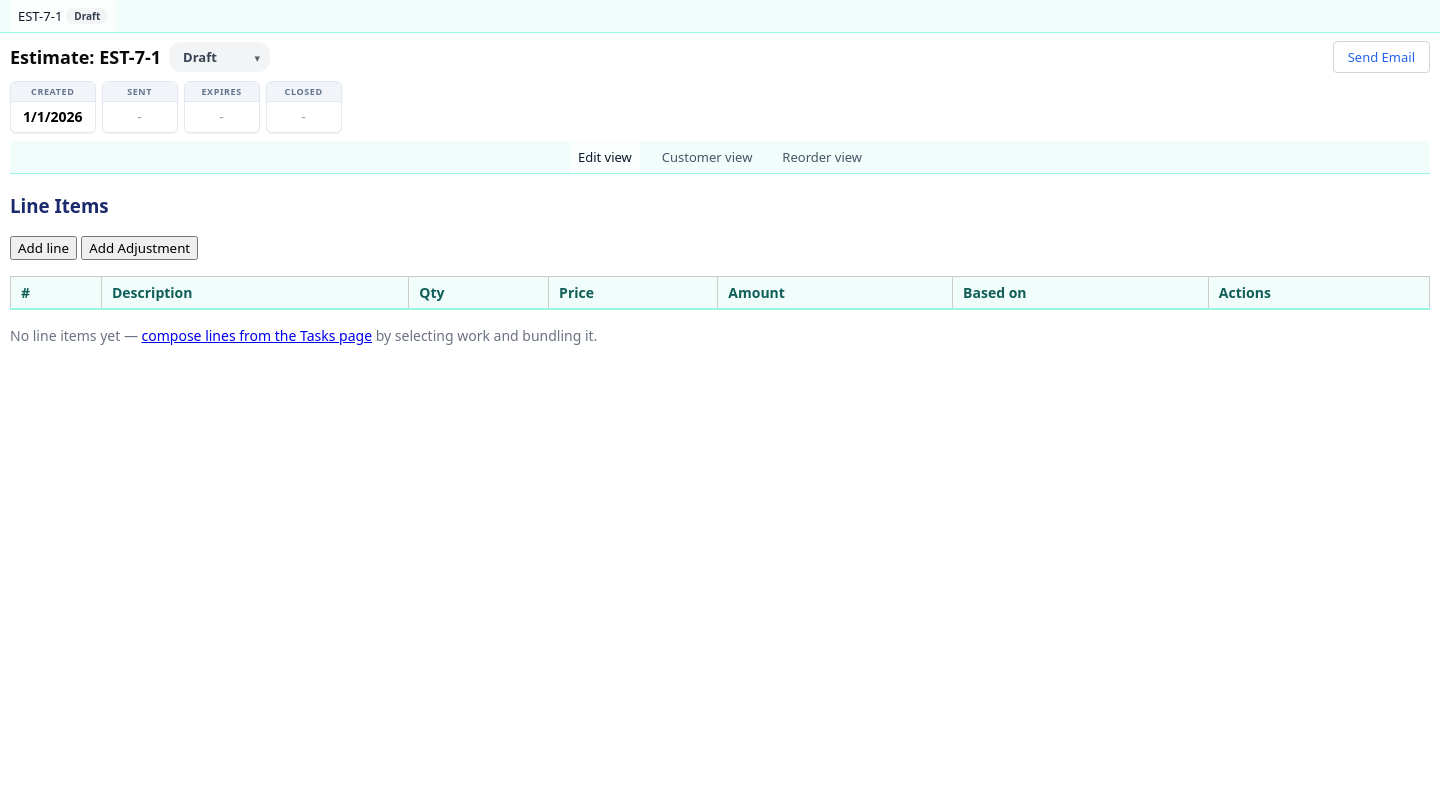
Test case: EstimatePanel Send Email deliverables gate › Send Email is a button that opens the send modal when the job has deliverables
Click the button "Send Email".
click(1381, 57)  # box x1=1333 y1=41 x2=1430 y2=73
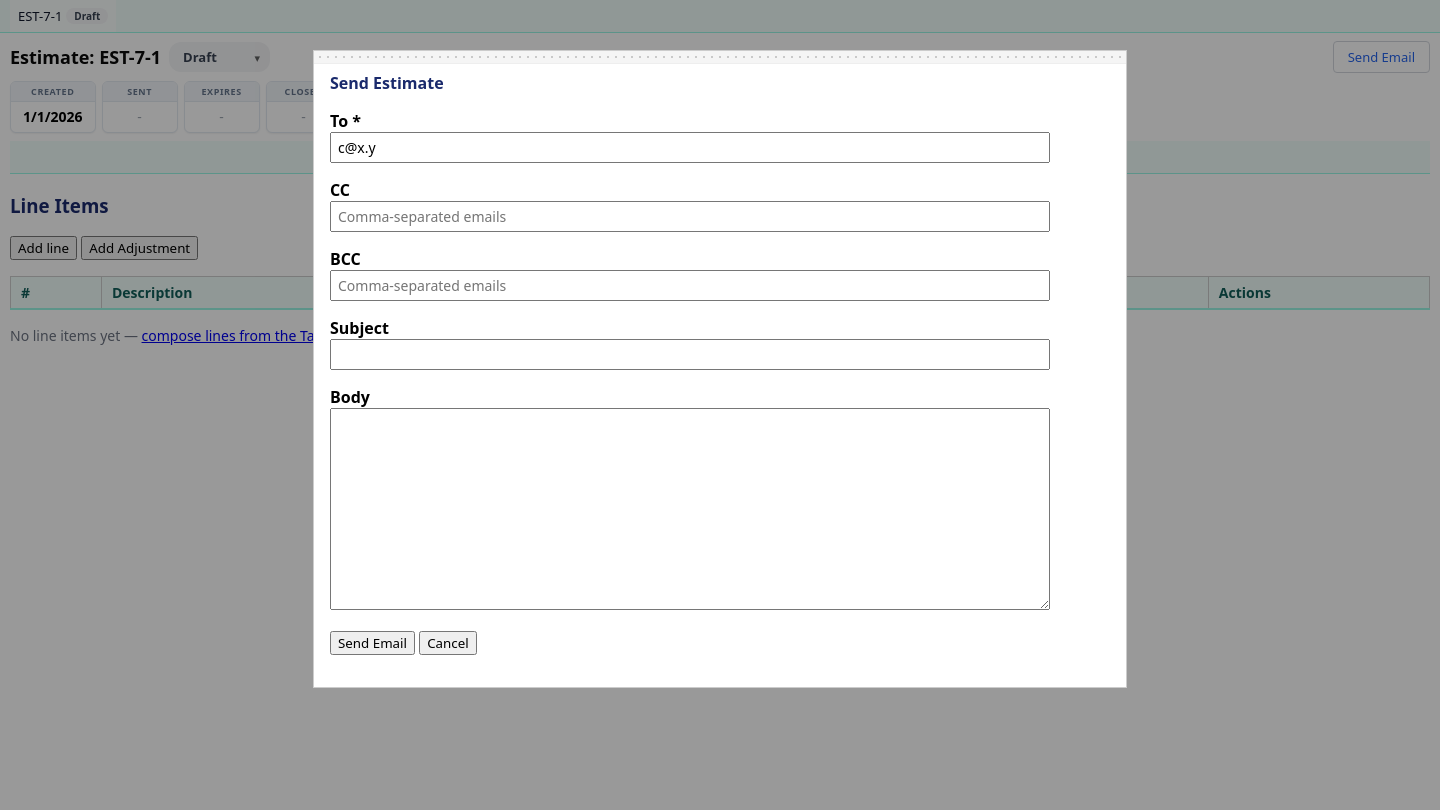
Check: the dialog "Send Estimate" is shown, box x1=313 y1=50 x2=1127 y2=688
